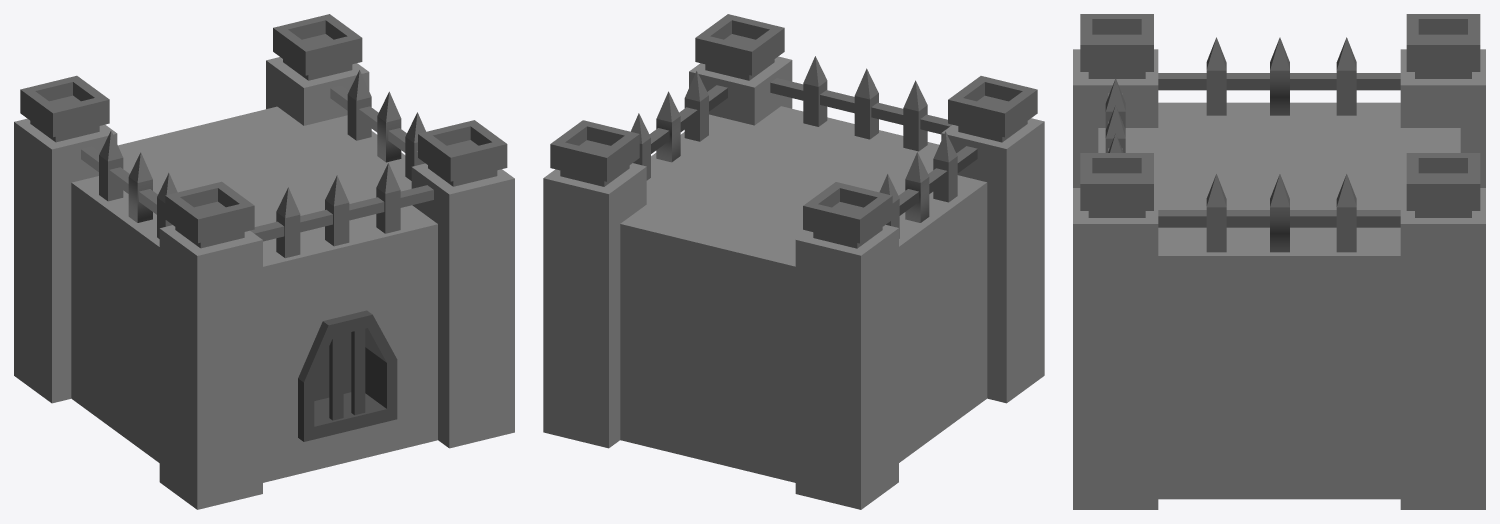
The model's file is Dungeon Building 01.FBX.
3 views of the same model, side by side, from view 1: azimuth 30°, elevation 25°; view 2: azimuth 150°, elevation 25°; view 3: azimuth 270°, elevation 25° (orthographic). The views are drawn at different scales.
Parts seen in each view (by area): view 1: Dungeon Building 01; view 2: Dungeon Building 01; view 3: Dungeon Building 01.
Boxes of the visible parts, bbox=[...] form: Dungeon Building 01: bbox=[14, 14, 514, 509]; Dungeon Building 01: bbox=[543, 14, 1044, 509]; Dungeon Building 01: bbox=[1073, 14, 1485, 509].
Size of the model in its own units: 400 by 346 by 400.
